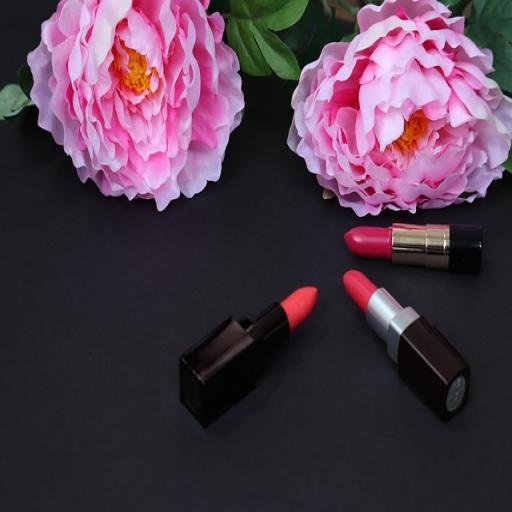lipstick: (180, 287, 317, 426), (344, 270, 469, 418), (345, 224, 482, 273)
